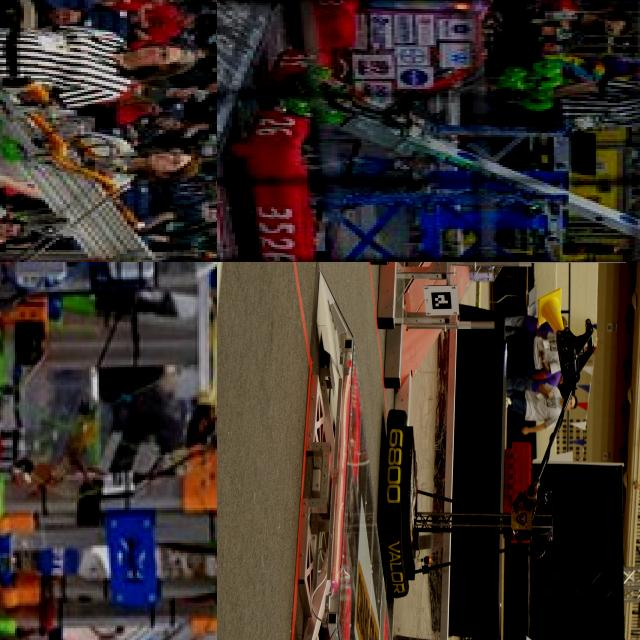FRC-Robots: (376, 262, 620, 613), (245, 89, 640, 262), (0, 383, 217, 640), (0, 75, 188, 262), (0, 262, 217, 368), (317, 0, 544, 101)
